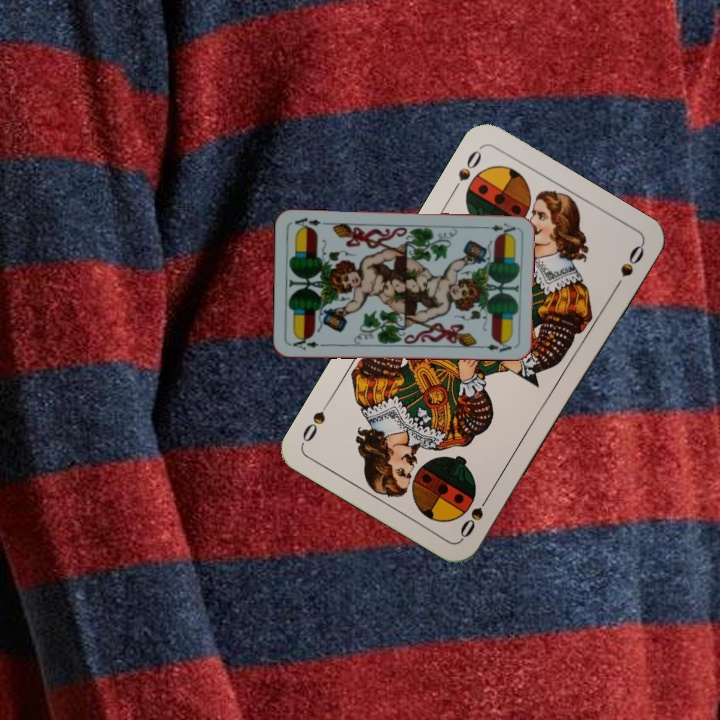EA: (289, 333, 328, 352), (478, 219, 518, 235)
SO: (455, 488, 494, 541), (447, 144, 485, 197)
